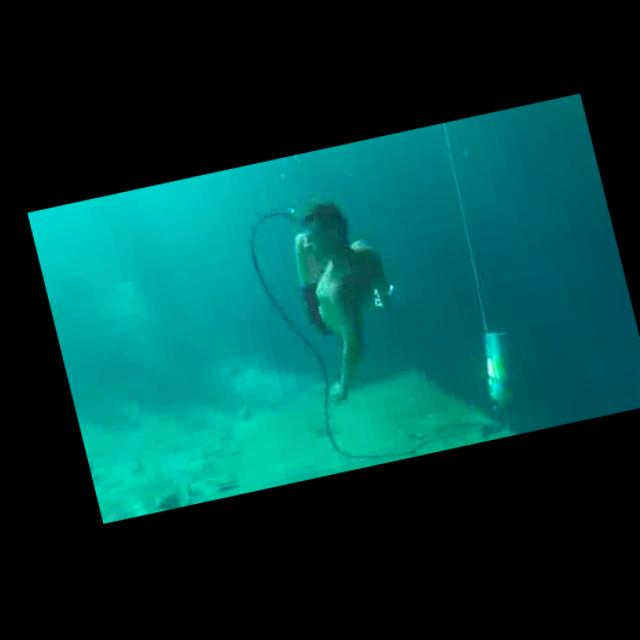human: (269, 184, 422, 408)
